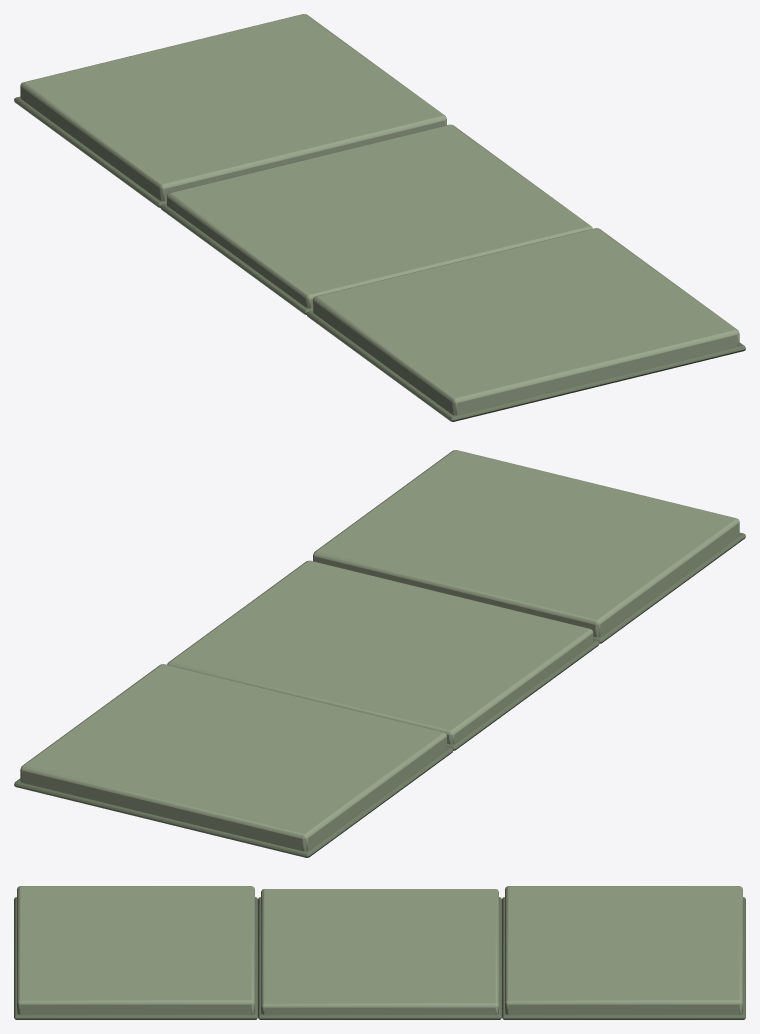
File: mat.mobile.glb
3 renders of one model, top to bottom at view 1: azimuth 30°, elevation 25°; view 2: azimuth 150°, elevation 25°; view 3: azimuth 270°, elevation 25°, orthographic. The views are drawn at different scales.
Parts seen in each view (by area): view 1: Mat; view 2: Mat; view 3: Mat.
Boxes of the visible parts, x1,y1,x2,y2 form: Mat: (14, 14, 745, 421); Mat: (14, 450, 745, 857); Mat: (14, 886, 745, 1019).
Size of the model in its own units: 0.6999 by 0.0475 by 1.8.
